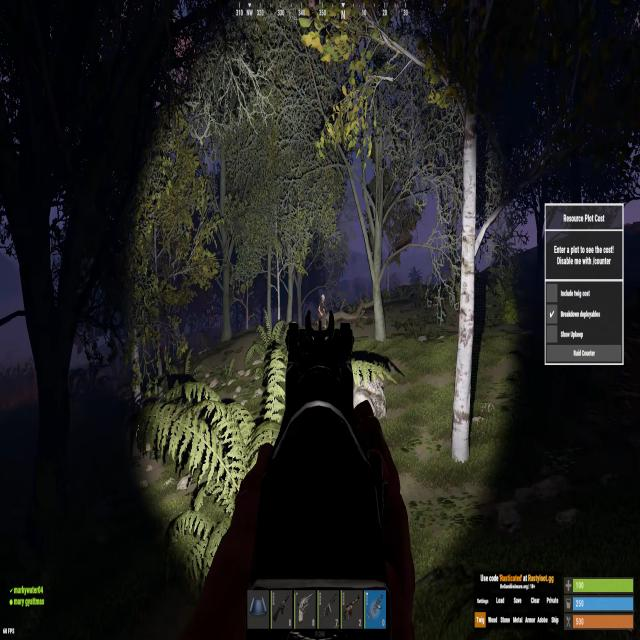Player: (318, 294, 328, 328)
